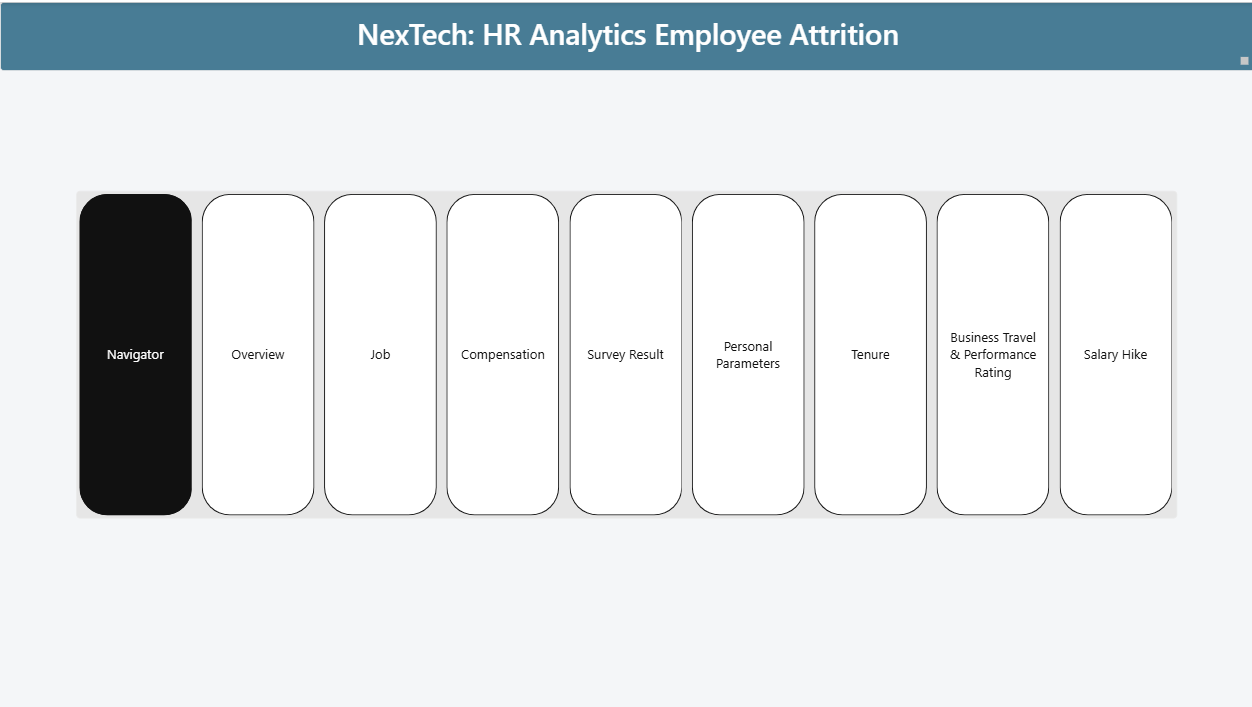

This screenshot's page, from the dashboard's own definition file:
{"tool":"powerbi","page":{"name":"Navigator","canvas":[1280,720],"ordinal":0},"visuals":[{"type":"textbox","title":"NexTech: HR Analytics Employee Attrition","box":[0,0,1279.8,70],"z":0},{"type":"pageNavigator","box":[77.8,192.5,1123.4,334.1],"z":1000}]}

Visuals, with their boxes in screenshot pixels (x1, y1, x2, y2), scaled from the page's 1280x720 canvas onto the 1252x707 screenshot:
"NexTech: HR Analytics Employee Attrition" textbox: (left=0, top=0, right=1251, bottom=69)
pageNavigator: (left=76, top=189, right=1175, bottom=517)
